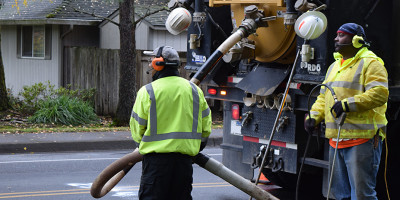noepi: (310, 11, 388, 200), (130, 45, 215, 199)
